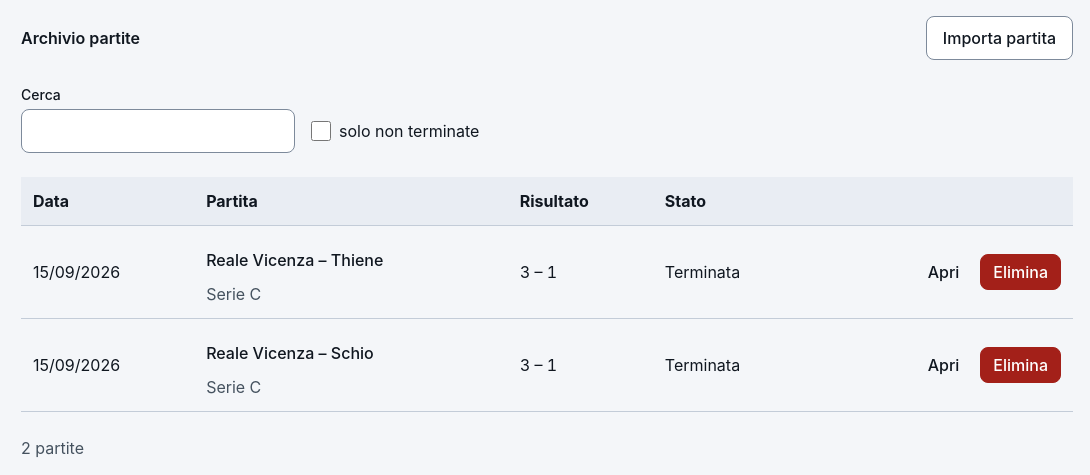
Test: ArchivePage › lists matches and filters them by the search box
Expected: the button "Reale Vicenza – Thiene" is shown, [206, 238, 383, 282]
Expected: the button "Reale Vicenza – Schio" is shown, [206, 331, 374, 375]
Type "Schio" into the search field labelled "Cerca".
click(158, 131); type("Schio")  # box [21, 109, 295, 153]
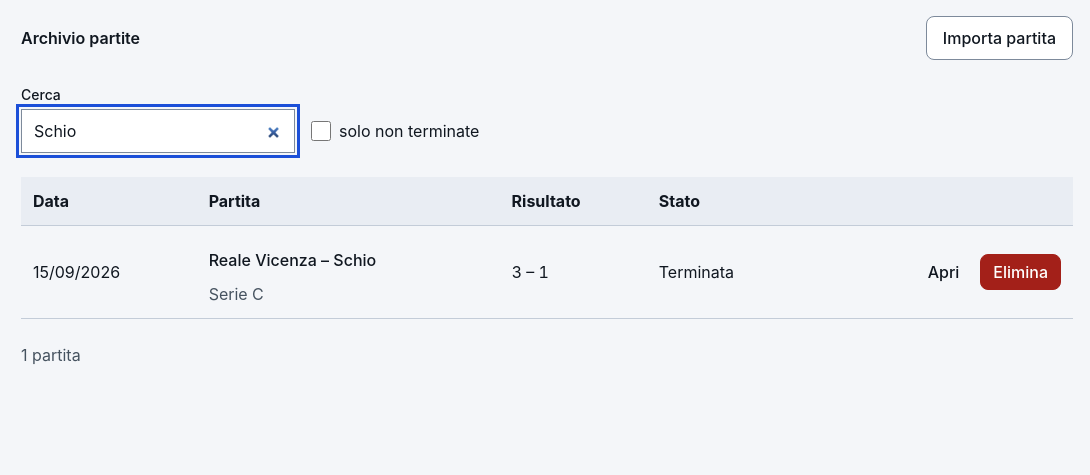
Expected: the button "Reale Vicenza – Schio" is shown, [209, 238, 376, 282]
Expected: the button "Reale Vicenza – Thiene" is gone
